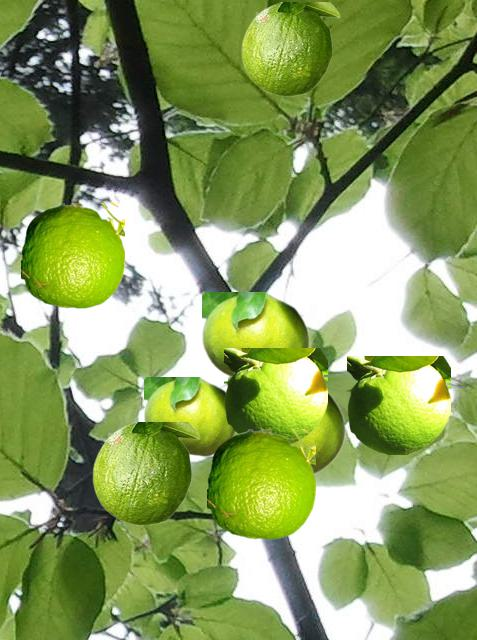dalandan: (207, 429, 314, 538), (228, 376, 345, 474), (92, 422, 199, 524), (21, 203, 123, 307), (347, 356, 449, 453), (224, 348, 326, 443), (241, 2, 339, 95), (202, 292, 309, 376), (144, 377, 234, 456)
